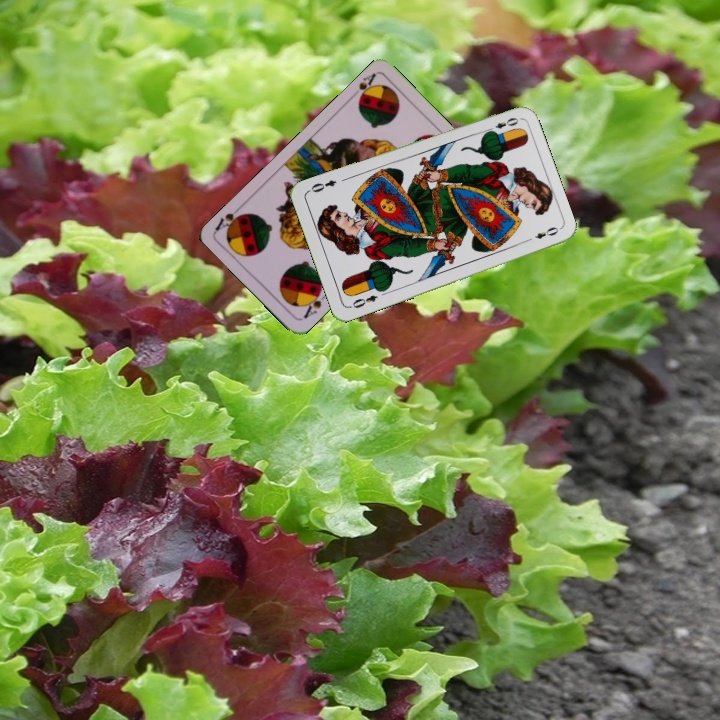EO: (482, 113, 521, 136), (345, 291, 380, 311)
SA: (299, 285, 330, 321), (353, 68, 381, 107)
